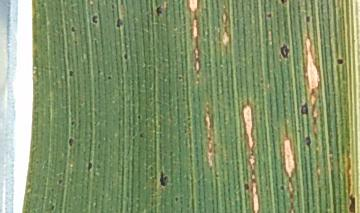tarspot: (155, 166, 171, 190), (279, 40, 291, 60), (153, 3, 166, 19), (333, 54, 346, 68), (300, 100, 310, 118), (303, 133, 313, 151), (84, 157, 94, 174), (88, 13, 101, 26), (240, 179, 252, 193), (113, 16, 125, 30), (301, 11, 313, 25), (66, 135, 76, 148), (121, 50, 131, 63), (263, 11, 275, 20), (66, 69, 76, 79)
